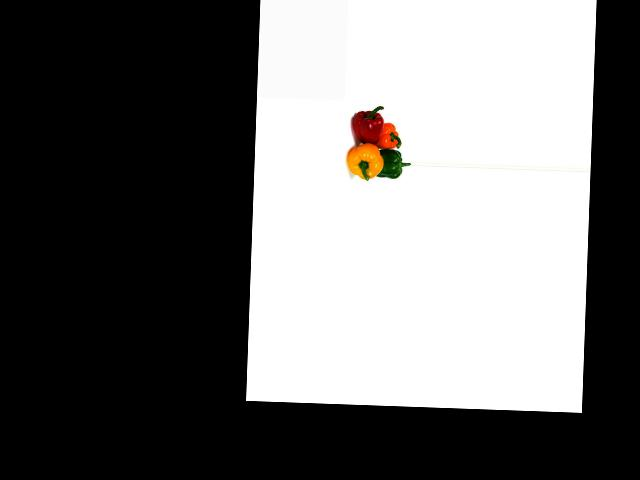bell_pepper: (345, 141, 384, 183)
